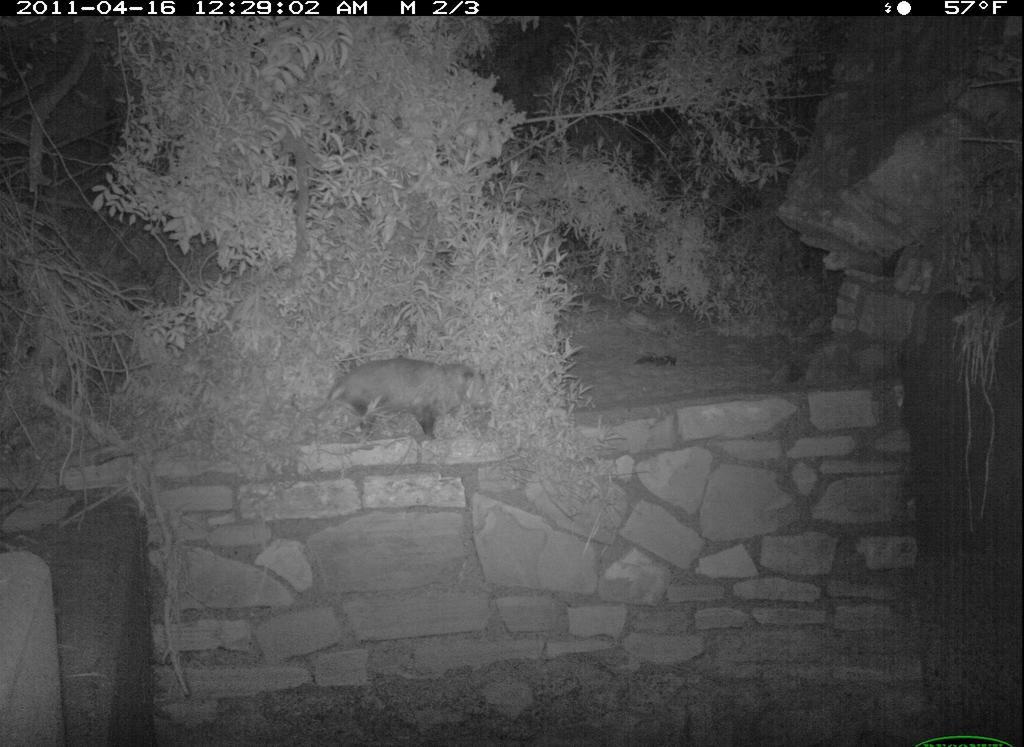opossum: (310, 353, 510, 468)
